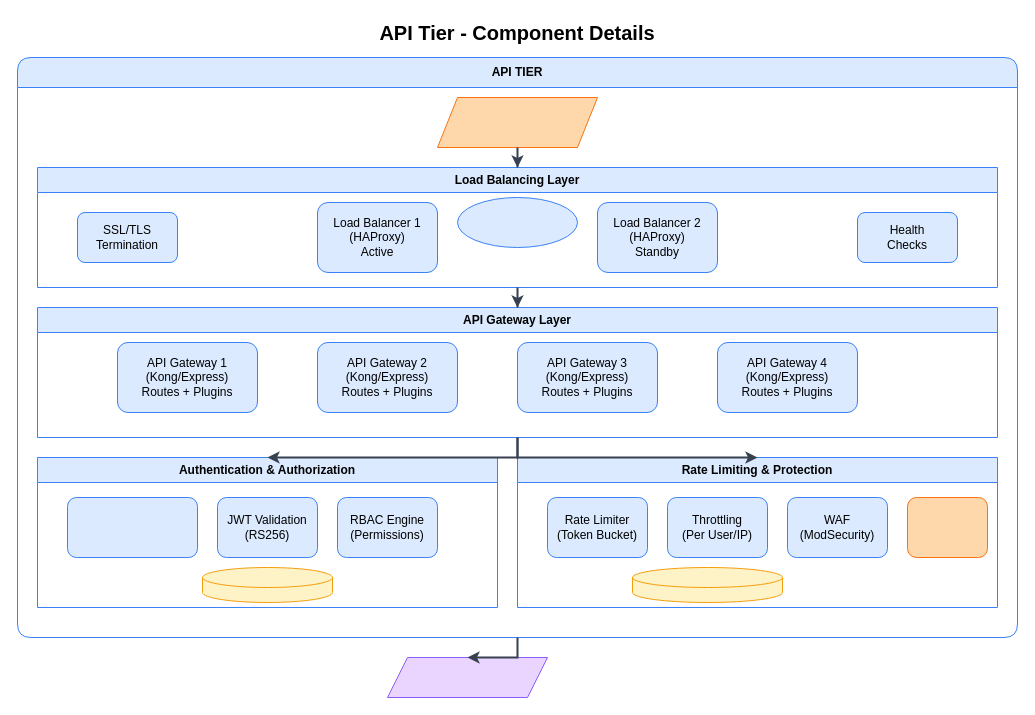
This 1035x715 diagram has some shape labels left out. Each missing label, with the centre of its shape:
"Auth Cache (Redis) Session + Token Store" goes at point (267, 584).
"Auth Service (OAuth 2.0 / OIDC)" goes at point (132, 527).
"DDoS Protection (Cloudflare/AWS)" goes at point (947, 527).
"External Traffic (HTTPS)" goes at point (517, 122).
"Rate Counter Cache (Redis)" goes at point (707, 584).
"To Business Tier" goes at point (467, 677).
"Virtual IP (Keepalived)" goes at point (517, 222).
